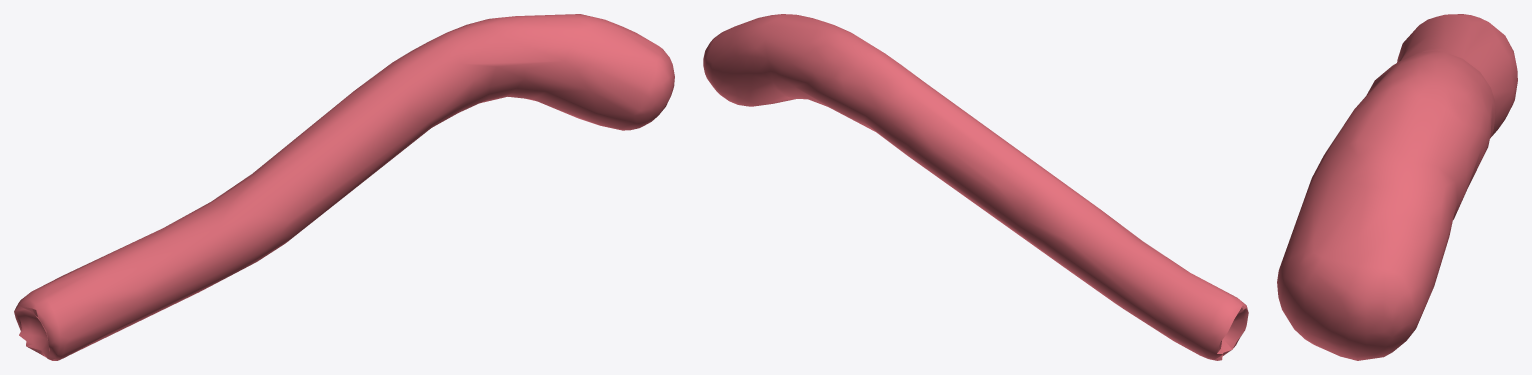
The model's file is fma4755.glb.
3 views of the same model, side by side, from view 1: azimuth 30°, elevation 25°; view 2: azimuth 150°, elevation 25°; view 3: azimuth 270°, elevation 25° (orthographic). The views are drawn at different scales.
Visible parts, largest first — view 1: FMA4755; view 2: FMA4755; view 3: FMA4755.
Boxes of the visible parts, x1,y1,x2,y2 form: FMA4755: [14, 14, 674, 360]; FMA4755: [703, 14, 1248, 360]; FMA4755: [1277, 14, 1517, 360].
Bounding box in the file's own units: 0.0645 × 0.0241 × 0.0138.
